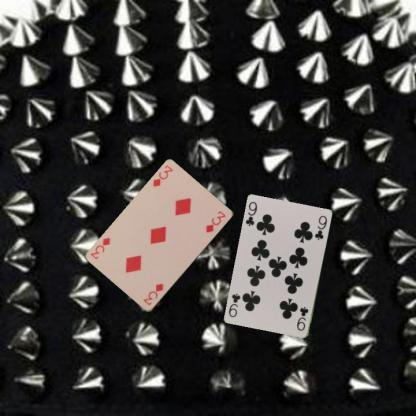3d: (141, 281, 165, 307), (150, 163, 174, 189)
9c: (294, 305, 310, 332), (244, 199, 258, 228)
